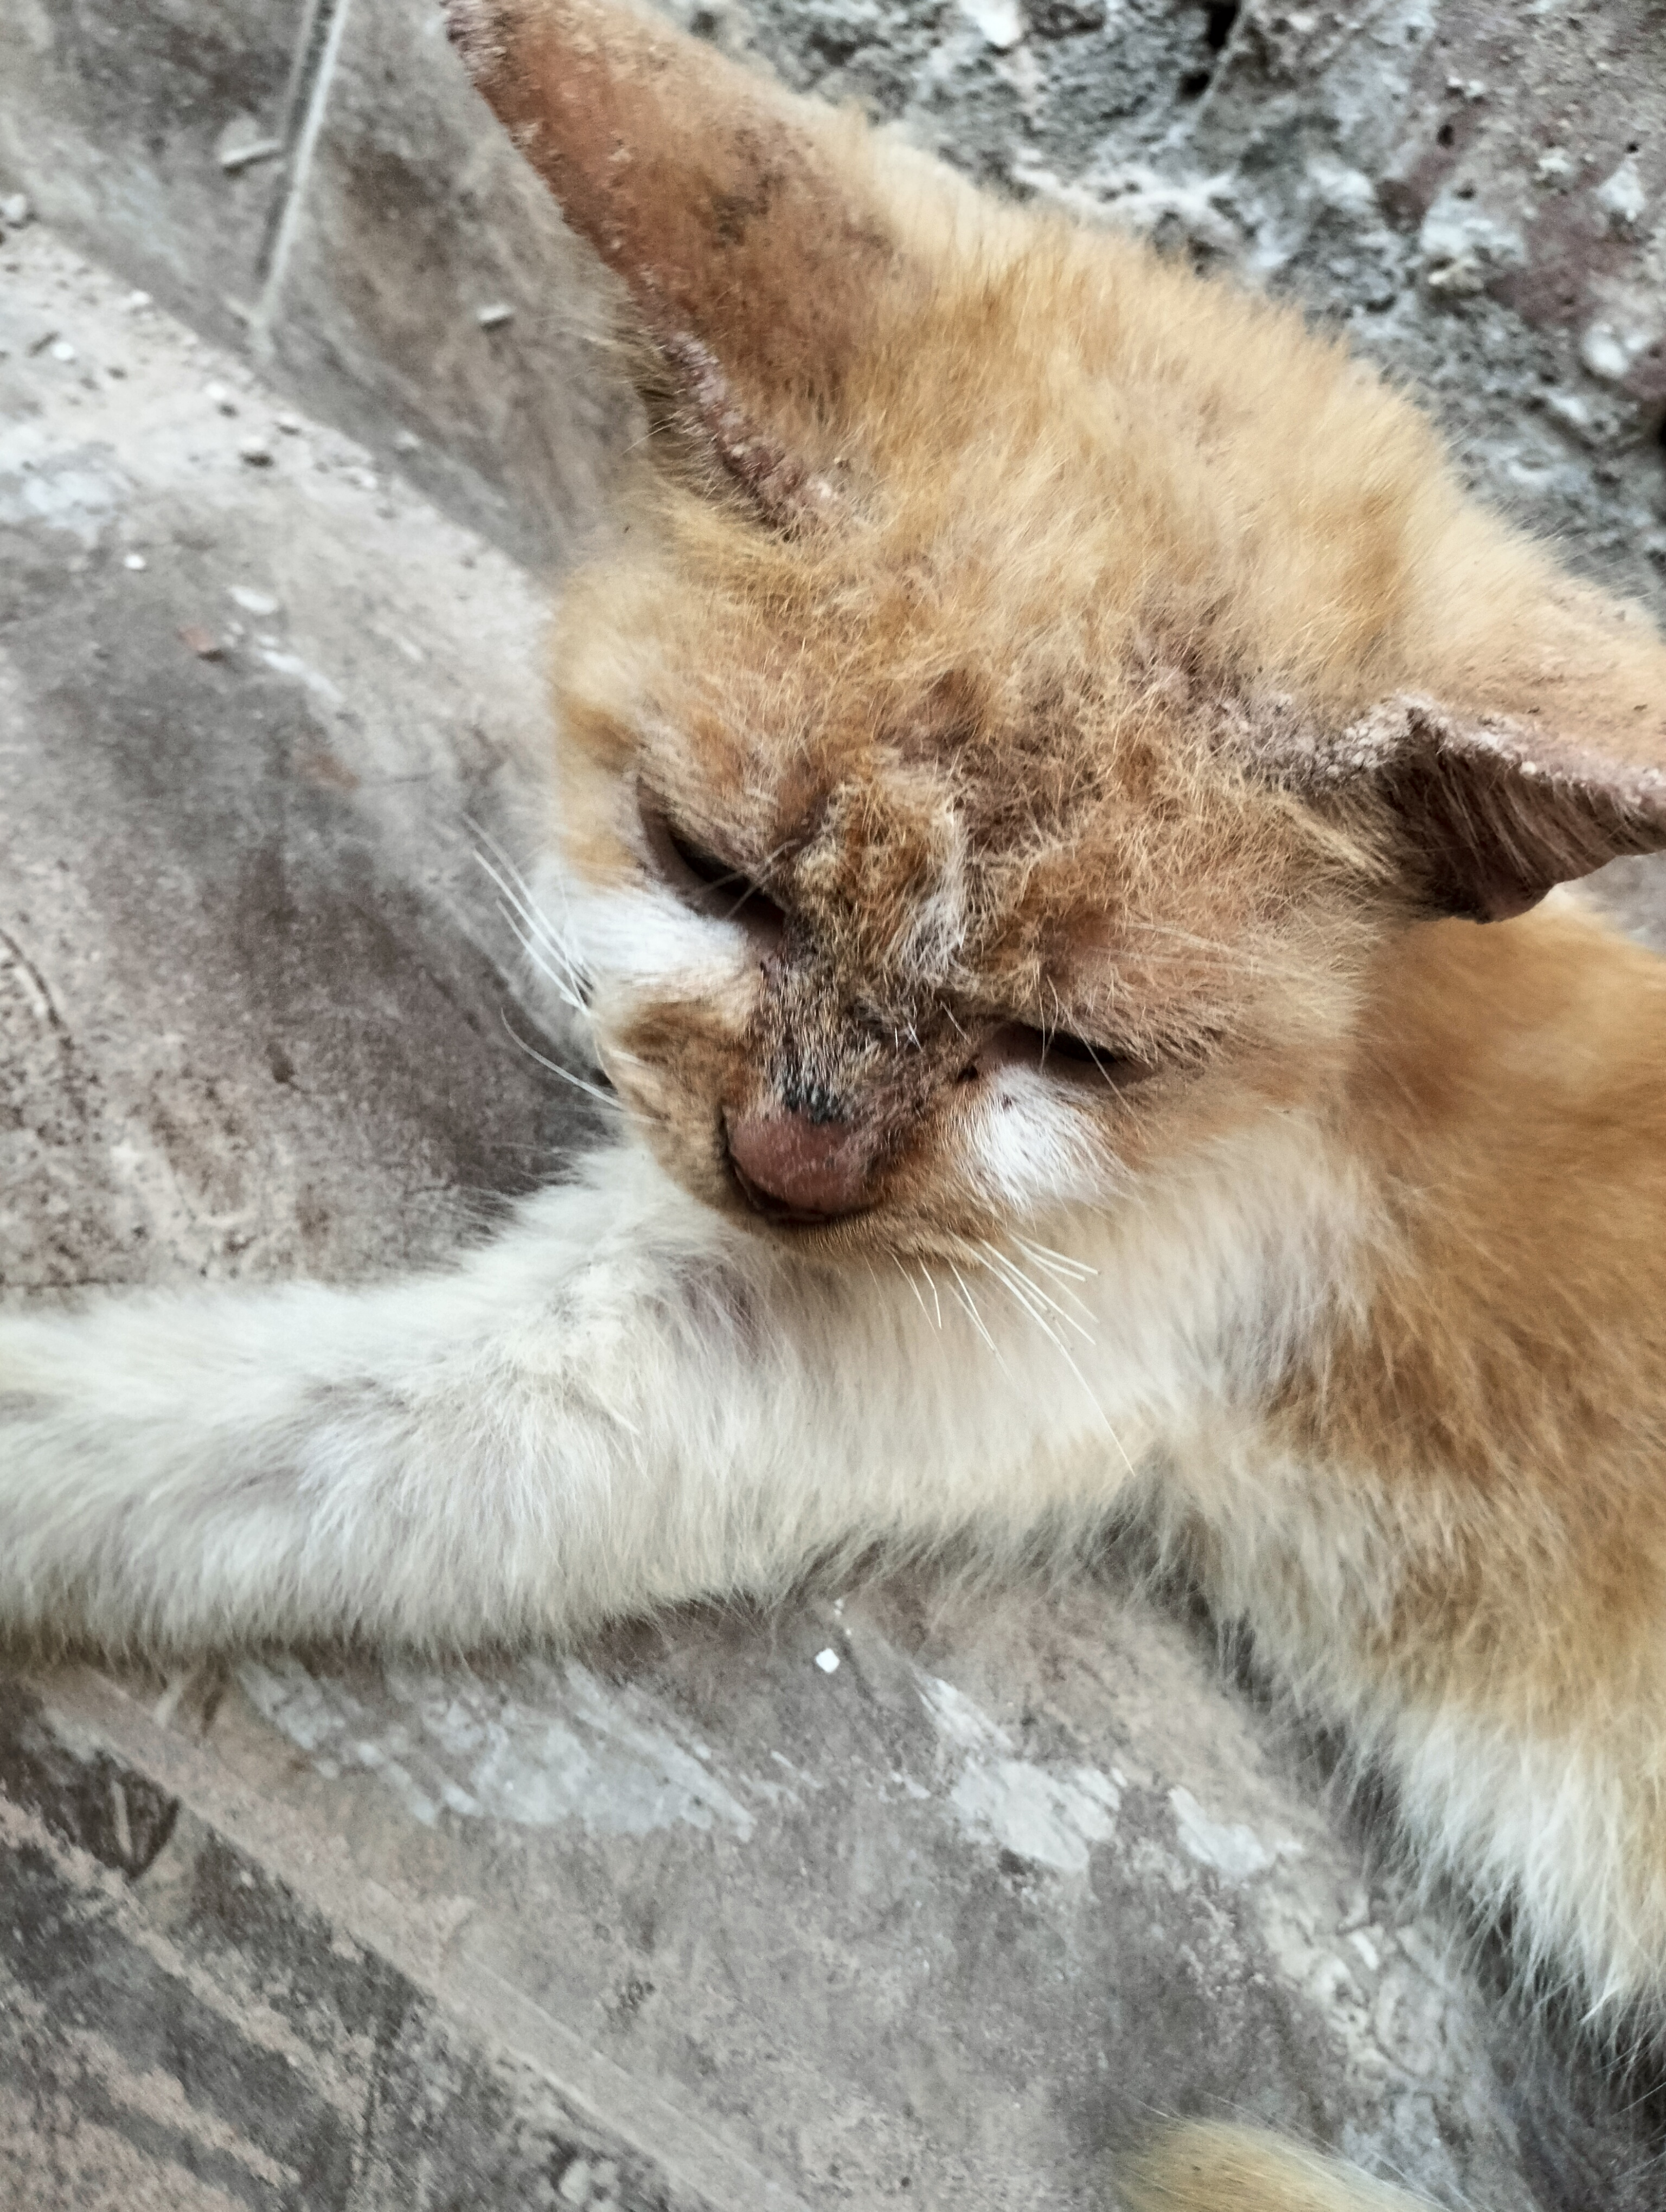cemong: (452, 12, 1666, 1385)
